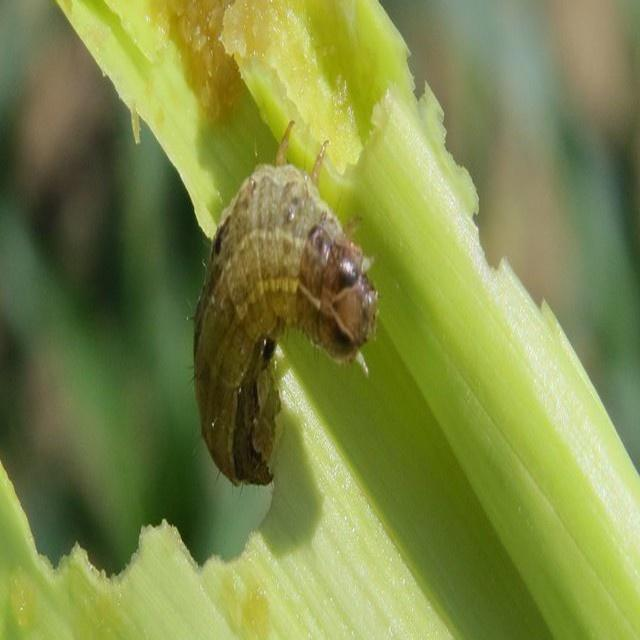gusano_cogollero: (188, 119, 380, 498)
